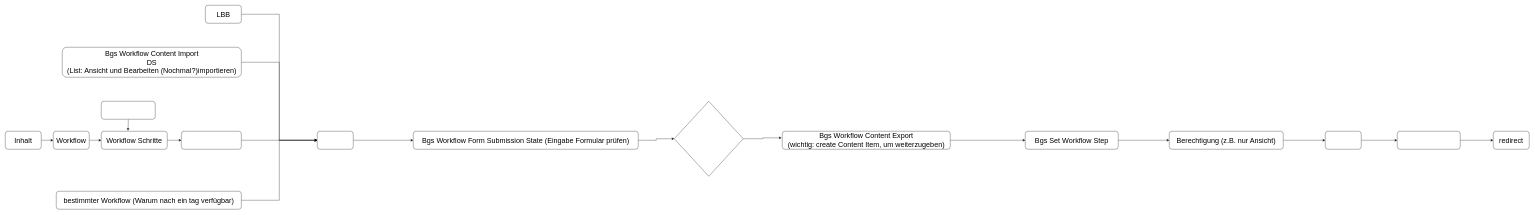
Some shapes in this 1535 by 215 pixel diagram are drawn without their labels. Here are the shapes that lost their labels. From the top down, the centre of each, then its label:
point 128,110: Start Action
point 211,140: Inhaltselement (Maske anlegen)
point 335,140: Workflows
point 708,138: Validiert (/Invaliding)
point 1343,140: Email
point 1428,140: Pop-up (fertig)
